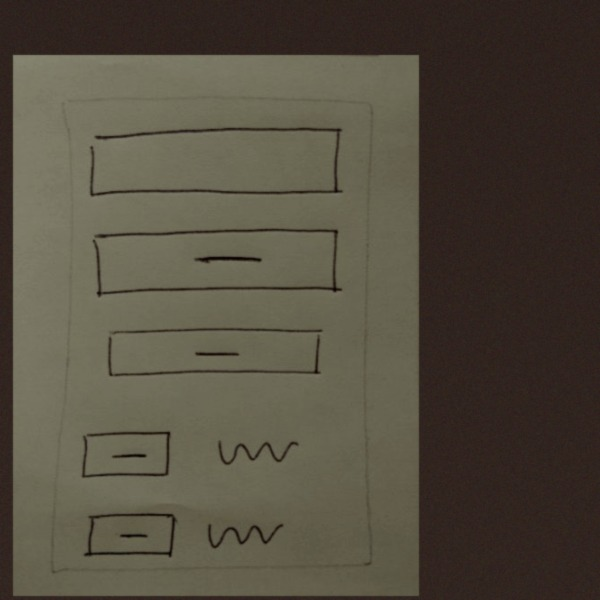button: (85, 226, 348, 301), (100, 323, 326, 386), (80, 503, 181, 563), (78, 427, 179, 486)
text: (200, 510, 294, 556), (211, 427, 304, 473)
text_input: (86, 125, 347, 207)
